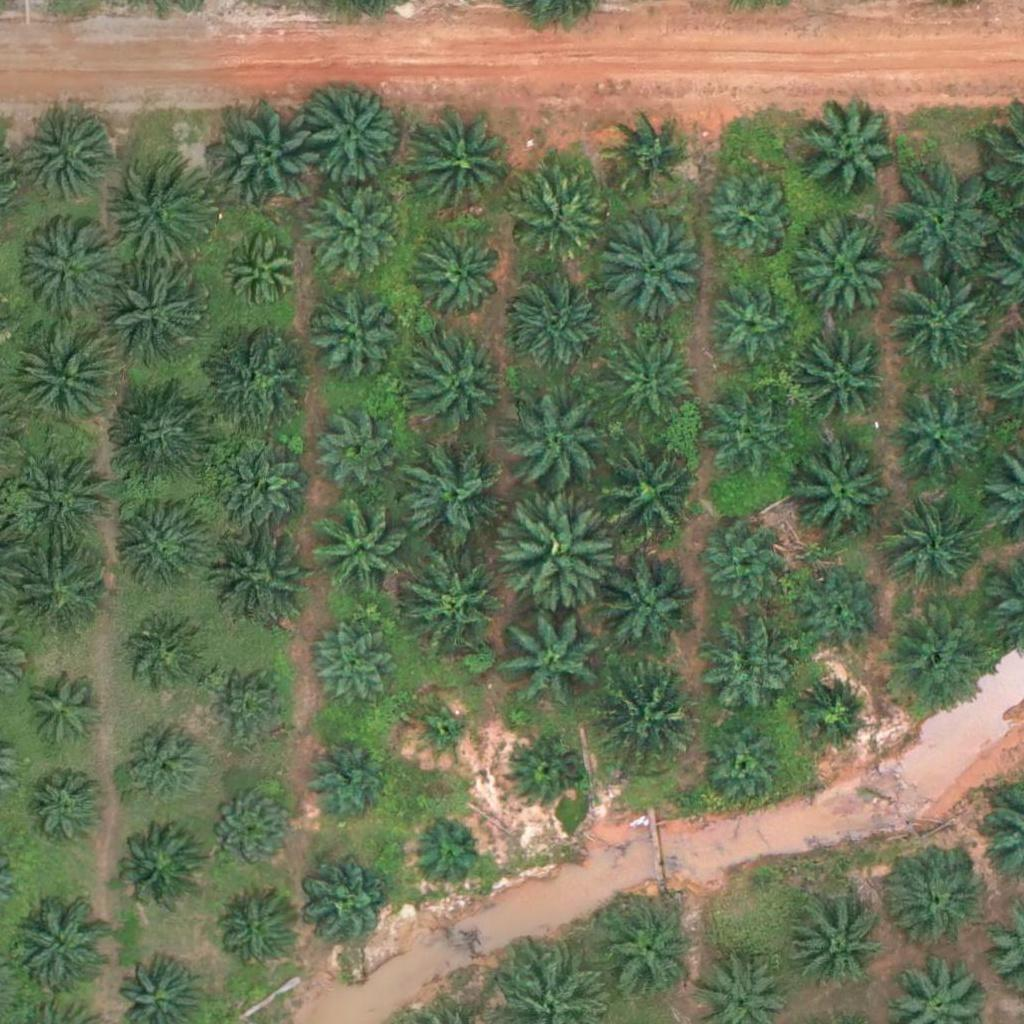Kelapa_Sawit: (402, 328, 515, 442), (197, 324, 310, 437), (508, 494, 621, 607), (782, 429, 895, 542), (884, 165, 997, 278), (881, 609, 994, 722), (215, 104, 327, 218), (507, 388, 619, 502), (104, 155, 216, 268), (101, 263, 213, 376), (109, 376, 221, 489), (401, 438, 513, 551), (400, 540, 512, 653), (503, 603, 615, 716), (596, 209, 708, 322), (596, 434, 708, 547), (594, 655, 706, 768), (784, 212, 896, 325), (887, 269, 999, 382), (875, 490, 987, 603), (19, 105, 119, 206), (20, 334, 120, 435), (15, 450, 115, 551), (13, 542, 113, 643), (111, 493, 211, 594), (300, 78, 400, 179), (303, 184, 403, 285), (312, 497, 412, 598), (404, 115, 504, 216), (511, 160, 611, 261), (603, 323, 703, 424), (596, 557, 696, 658), (599, 901, 699, 1002), (694, 624, 794, 725), (794, 103, 894, 204), (787, 324, 887, 425), (885, 844, 985, 945), (785, 893, 885, 994), (16, 224, 116, 324), (12, 898, 112, 998), (213, 520, 313, 620), (512, 274, 612, 374), (886, 382, 986, 482), (17, 765, 105, 854), (123, 619, 211, 707), (310, 284, 398, 372), (318, 405, 406, 493), (310, 625, 398, 713), (307, 864, 395, 952), (790, 669, 878, 757), (702, 277, 790, 365), (212, 891, 299, 979), (207, 784, 294, 872), (207, 663, 294, 751), (14, 672, 101, 760), (117, 723, 204, 811), (113, 823, 200, 911), (218, 230, 305, 318), (219, 447, 306, 535), (305, 731, 392, 819), (419, 237, 506, 325), (610, 109, 697, 197), (700, 168, 787, 256), (705, 395, 792, 483), (701, 520, 788, 608), (703, 724, 790, 812), (796, 565, 883, 653), (505, 732, 580, 808), (411, 815, 486, 890), (412, 704, 475, 767)
